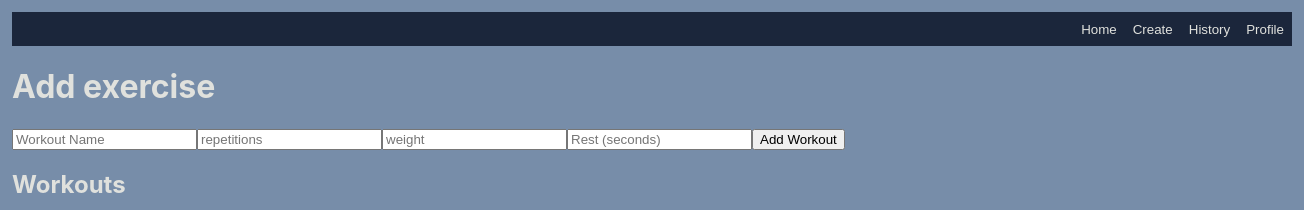
Test: Navigate to History screen
Click the button "History".
click(1210, 29)  # box [1183,14,1236,44]
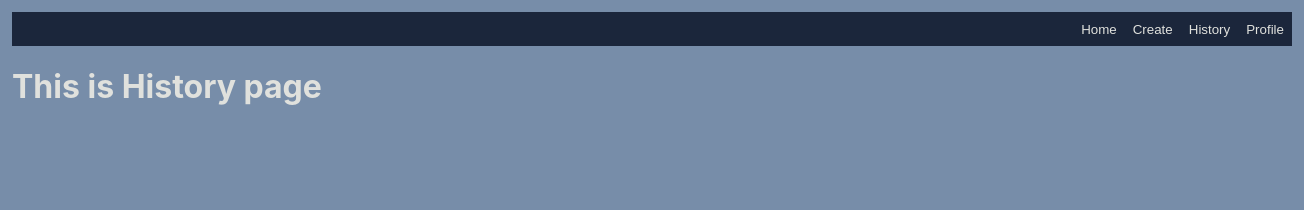
Expected: the heading "This is History page" is shown, [12,67,322,106]
